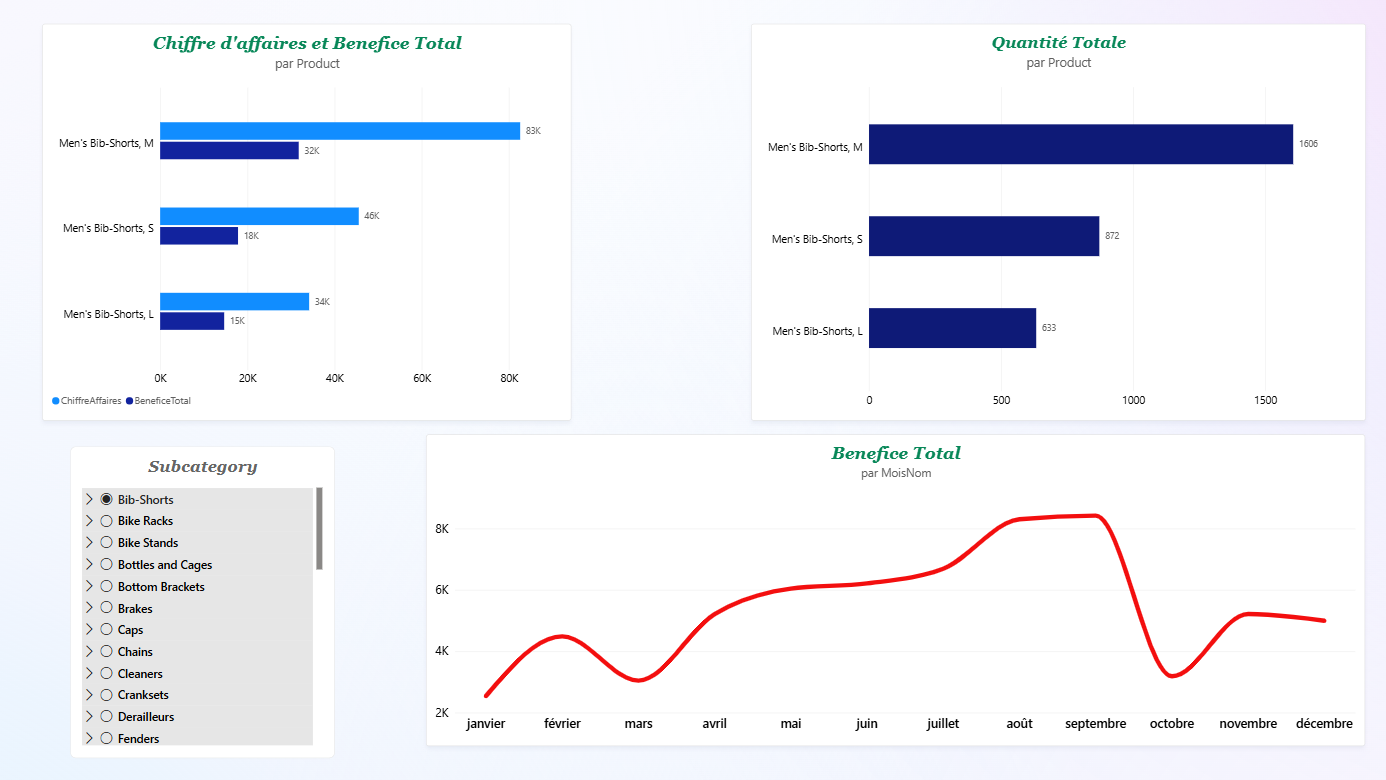

What the dashboard file says about the page in this screenshot:
{"tool":"powerbi","page":{"name":"Page 6","canvas":[1920,1080],"ordinal":5},"visuals":[{"type":"clusteredBarChart","title":"Chiffre d''affaires et Benefice Total","fields":{"Category":["Product.Product"],"Y":["Sales.ChiffreAffaires","Sales.BeneficeTotal"]},"box":[60,37.5,730,547.5],"z":0},{"type":"clusteredBarChart","title":"Quantité Totale","fields":{"Category":["Product.Product"],"Y":["Sales.QuantiteTotale"]},"box":[1037.5,37.5,847.5,547.5],"z":1000},{"type":"lineChart","title":"Benefice Total","fields":{"Category":["Calendrier.MoisNom"],"Y":["Sales.BeneficeTotal"]},"box":[590,602.5,1295,430],"z":2000},{"type":"listSlicer","fields":{"Values":["Product.Subcategory","Product.Product"]},"box":[100,620,365,430],"z":3000}]}

Visuals, with their boxes in screenshot pixels (x1, y1, x2, y2), scaled from the page's 1920x1080 canvas onto the 1386x780 screenshot:
"Chiffre d''affaires et Benefice Total" clusteredBarChart: BBox(43, 27, 570, 422)
"Quantité Totale" clusteredBarChart: BBox(749, 27, 1361, 422)
"Benefice Total" lineChart: BBox(426, 435, 1361, 746)
listSlicer - Product.Subcategory x Product.Product: BBox(72, 448, 336, 758)
